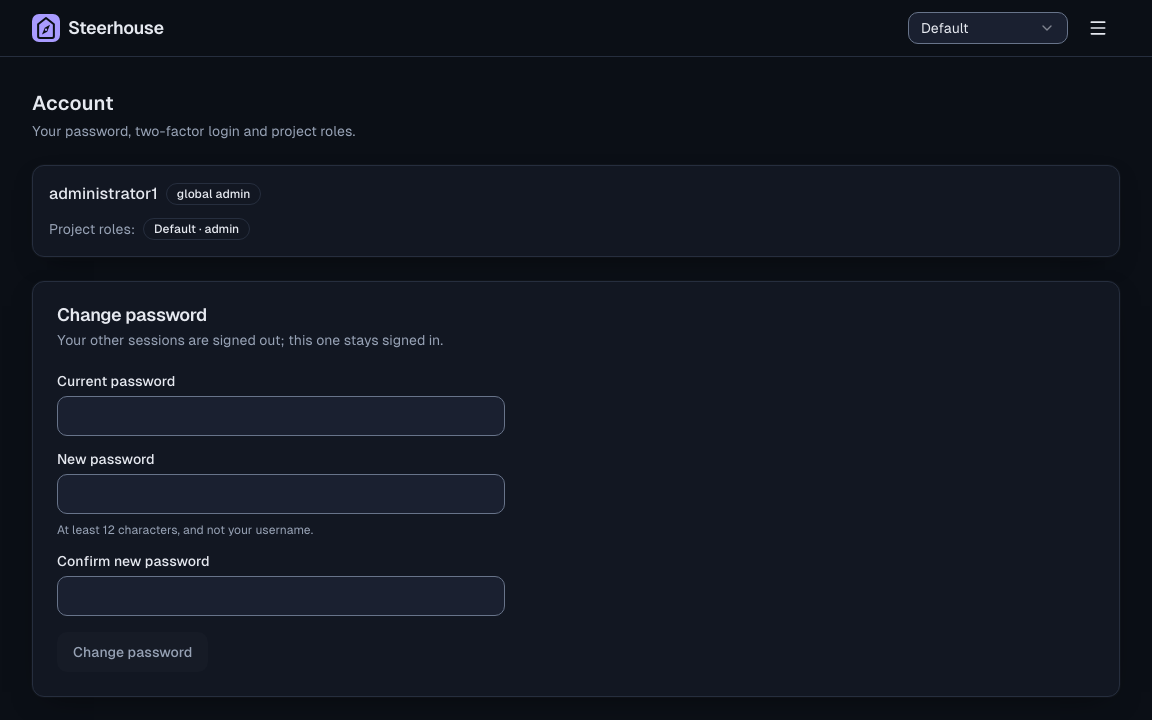
account: password › refuses your username and shows a wrong current password
The image size is (1152, 720).
In the password field labelled "New password": (281,494) [57,474,505,514], type "ADMINISTRATOR1"
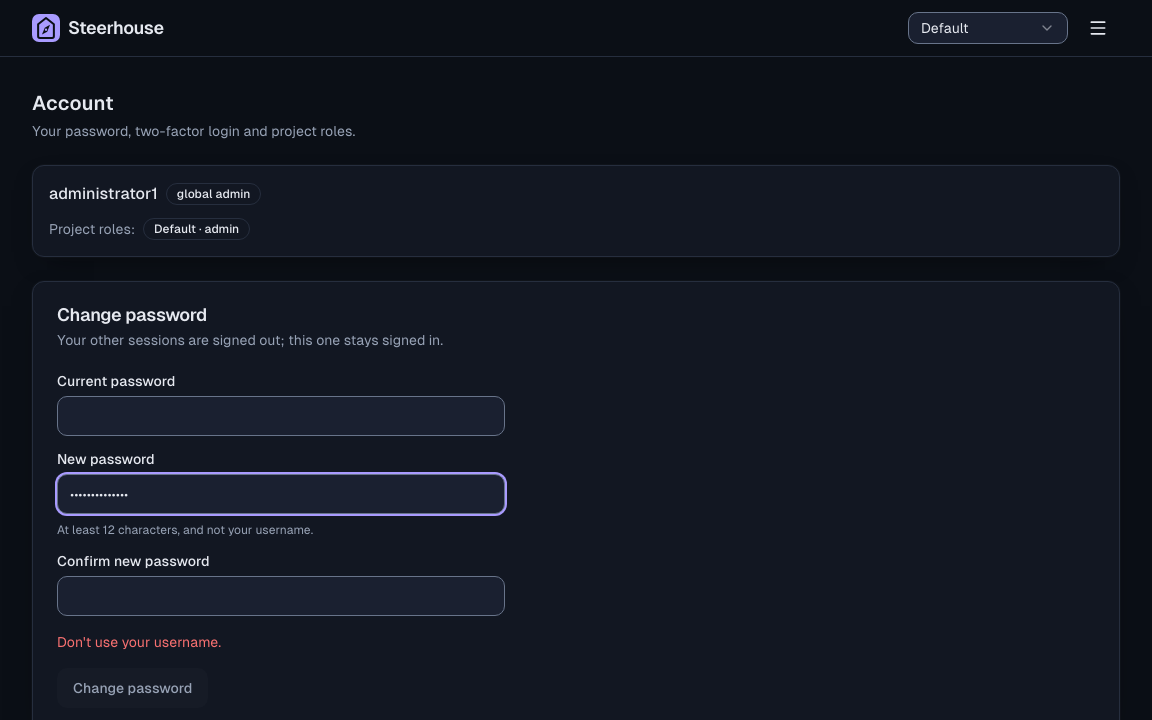
Check: the text "Don't use your username." is shown, box [57,634,221,650]
Clear the password field labelled "New password": (281,494) [57,474,505,514]
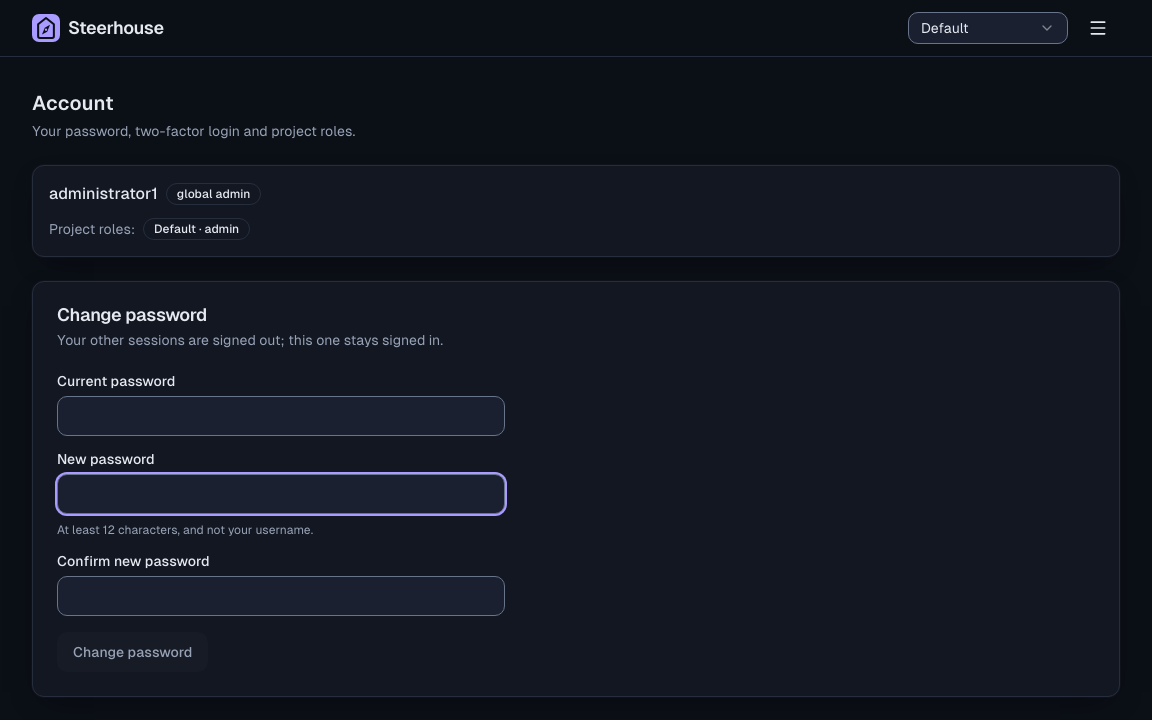
In the password field labelled "Current password": (281,416) [57,396,505,436], type "nope"
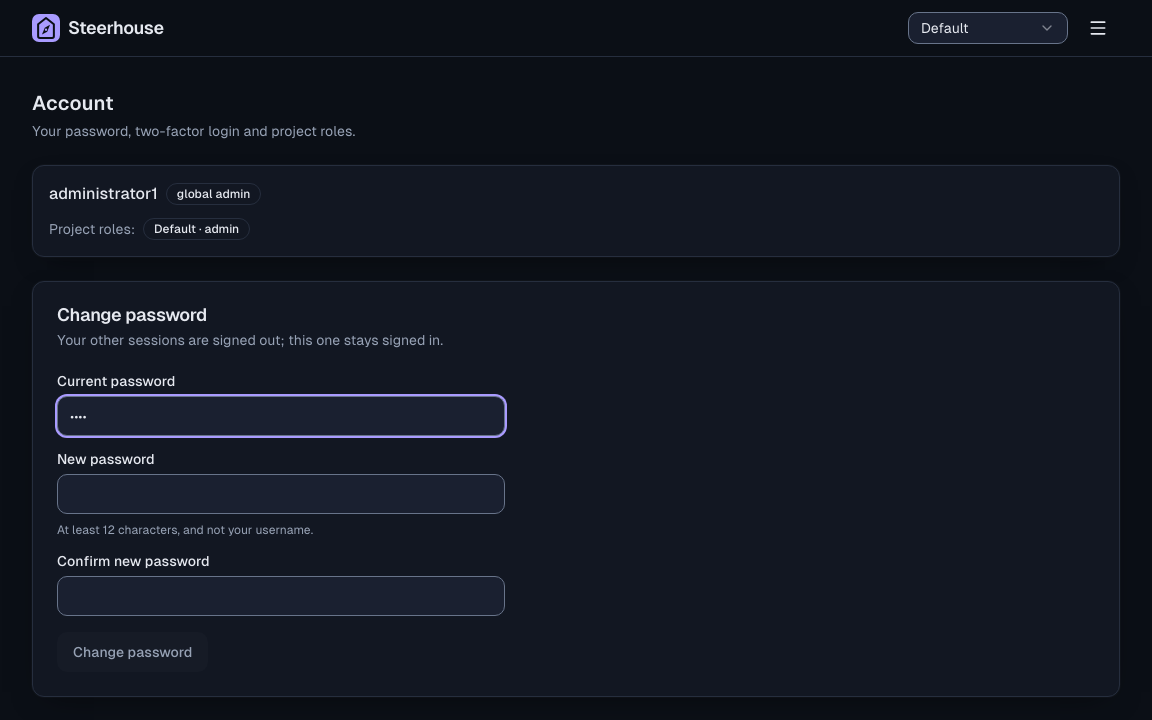
In the password field labelled "New password": (281,494) [57,474,505,514], type "a-good-long-password"
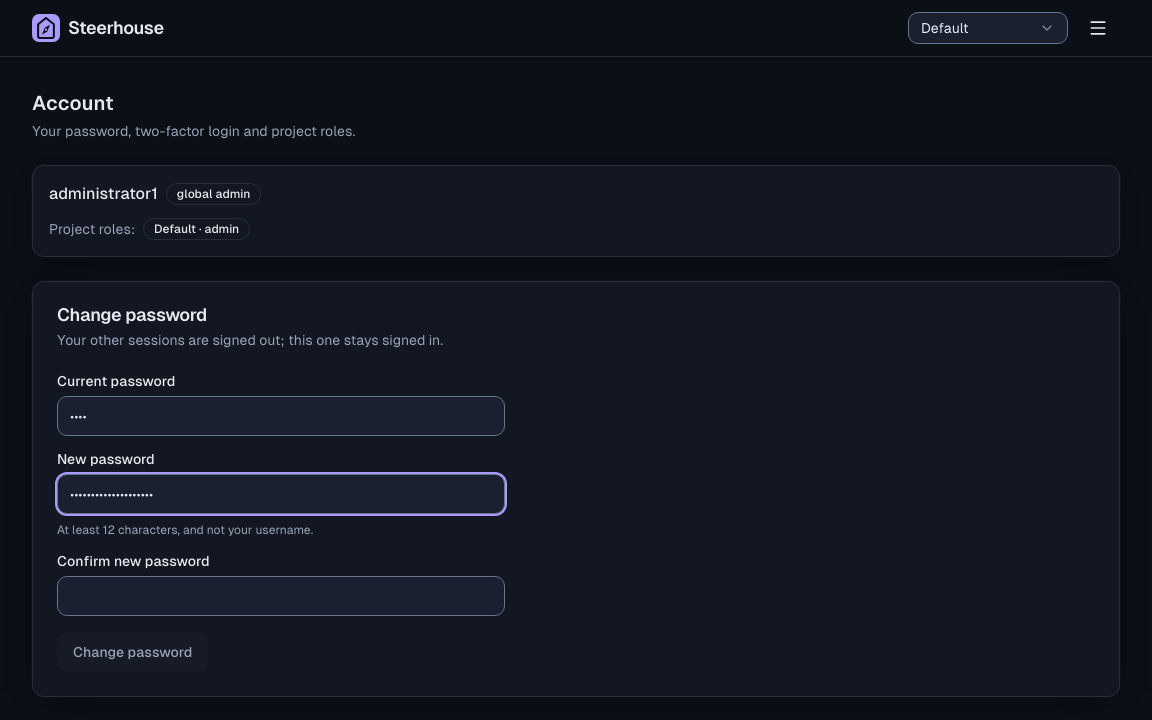
In the password field labelled "Confirm new password": (281,596) [57,576,505,616], type "a-good-long-password"
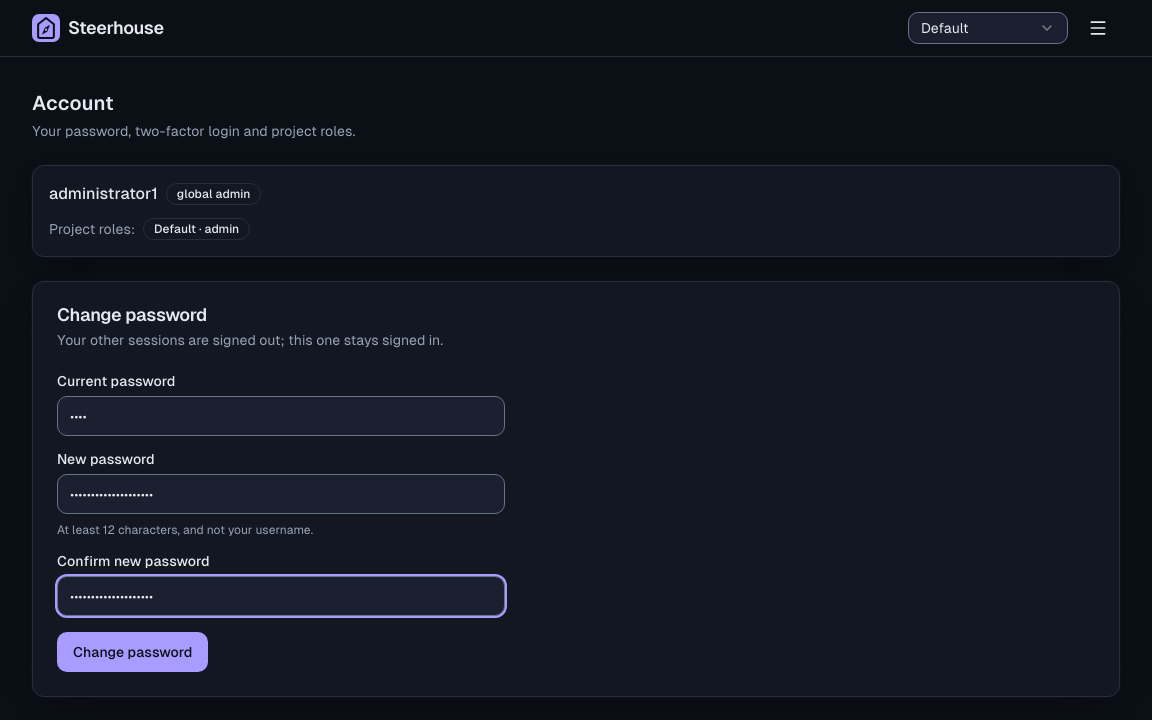
Click the button "Change password": (133,652) [57,632,208,672]
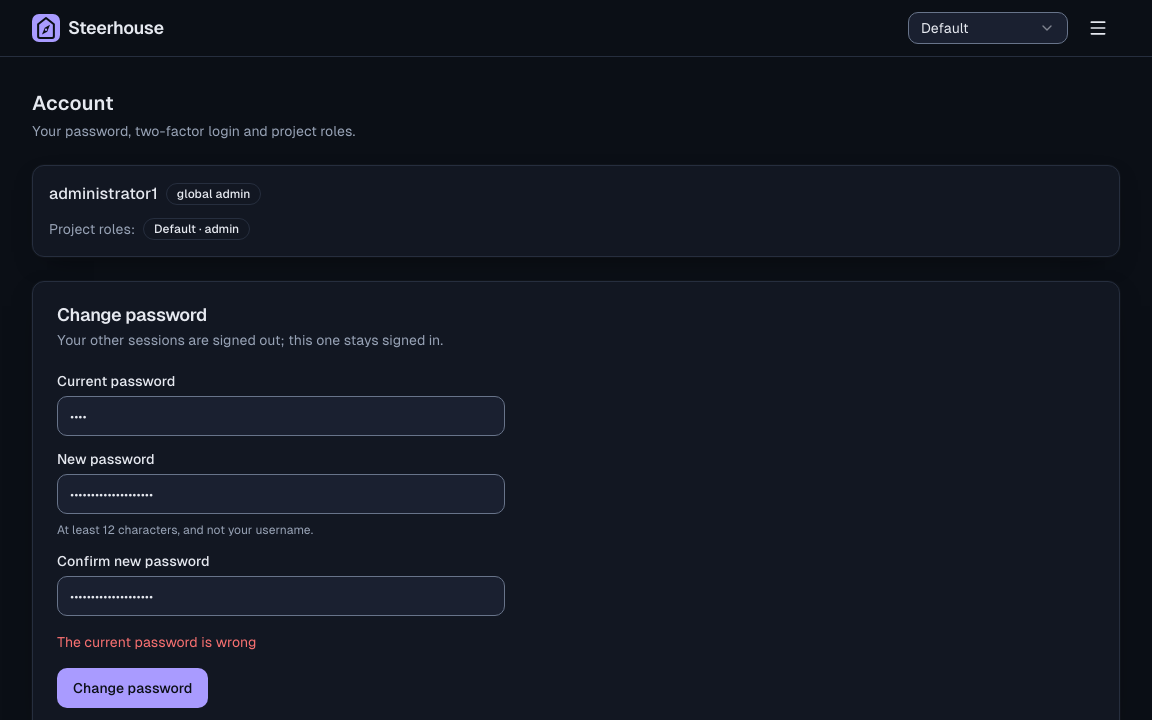
Check: the text "The current password is wrong" is shown, box [57,634,256,650]
